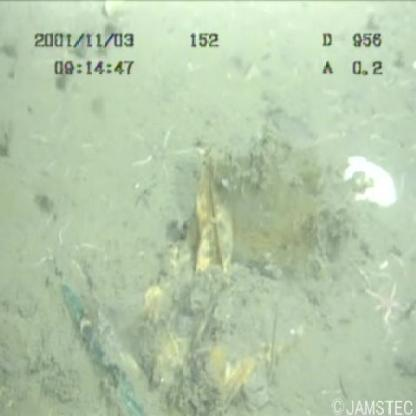Bio: (362, 279, 409, 335)
Rác: (64, 155, 322, 416)
